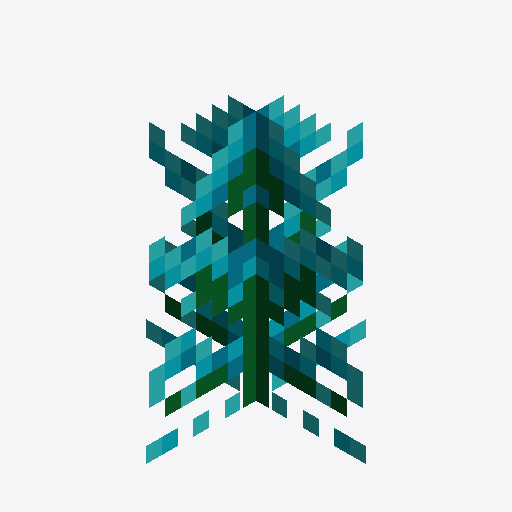
Isometric view (azimuth 45°, elevation 35.3°) of a Minecraft model made of 86 cuboids, textured from the same repository.
Visible parts, largest first — TopStalk (×2), element 4, element 47, element 18, element 65, element 19, element 66, element 38, element 79, element 40, element 75, element 17 (+27 smaller).
Boxes of the visible parts, x1=… form: TopStalk (×2): x1=243, y1=104, x2=268, y2=407; element 4: x1=269, y1=119, x2=283, y2=217; element 47: x1=228, y1=119, x2=242, y2=217; element 18: x1=284, y1=236, x2=299, y2=316; element 65: x1=212, y1=236, x2=227, y2=316; element 19: x1=300, y1=227, x2=315, y2=307; element 66: x1=196, y1=227, x2=211, y2=307; element 38: x1=269, y1=336, x2=299, y2=389; element 79: x1=212, y1=336, x2=242, y2=389; element 40: x1=316, y1=327, x2=346, y2=380; element 75: x1=165, y1=327, x2=195, y2=380; element 17: x1=269, y1=246, x2=283, y2=325.
Size of the model in its own units: 14 by 16 by 14.